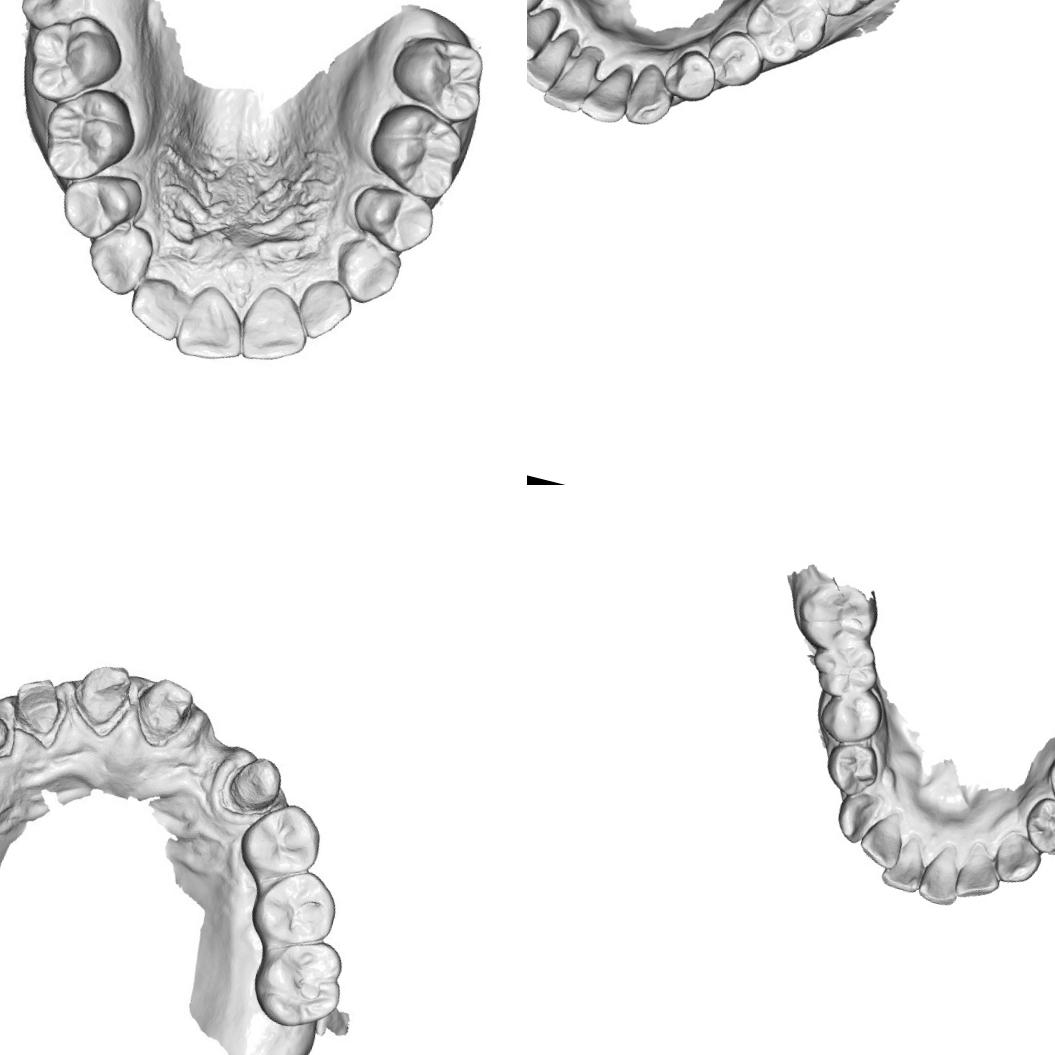canine: (84, 214, 158, 298), (324, 233, 407, 306), (620, 58, 680, 132), (990, 826, 1046, 888), (830, 786, 882, 848)
crown: (212, 742, 292, 828), (70, 651, 140, 731), (128, 672, 199, 749), (7, 670, 68, 740), (0, 699, 24, 769)
incisor: (236, 280, 314, 368), (177, 276, 253, 365), (127, 260, 202, 339), (540, 35, 600, 116), (578, 56, 642, 129), (297, 269, 358, 340), (527, 20, 579, 97), (952, 836, 1008, 906), (878, 828, 934, 895), (916, 838, 968, 908), (854, 808, 910, 872), (527, 0, 562, 67)
molar: (362, 96, 472, 207), (38, 78, 142, 188), (24, 8, 128, 109), (249, 933, 353, 1032), (788, 570, 891, 664), (389, 28, 490, 122), (253, 863, 344, 954), (736, 0, 835, 75), (806, 625, 886, 703), (795, 0, 896, 28), (15, 0, 95, 35)
premolar: (226, 800, 324, 898), (344, 172, 440, 256), (55, 161, 143, 246), (814, 679, 889, 749), (698, 24, 769, 94), (656, 42, 722, 107), (818, 736, 884, 799), (1018, 792, 1055, 860), (1040, 743, 1055, 814)
